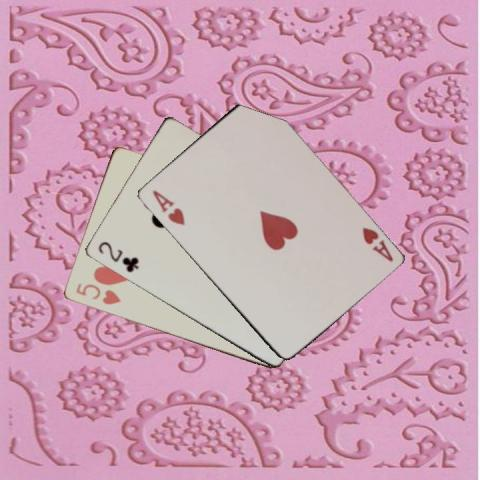2c: (95, 239, 140, 274)
5h: (72, 280, 122, 307)
Ah: (149, 187, 186, 227), (359, 224, 394, 263)
